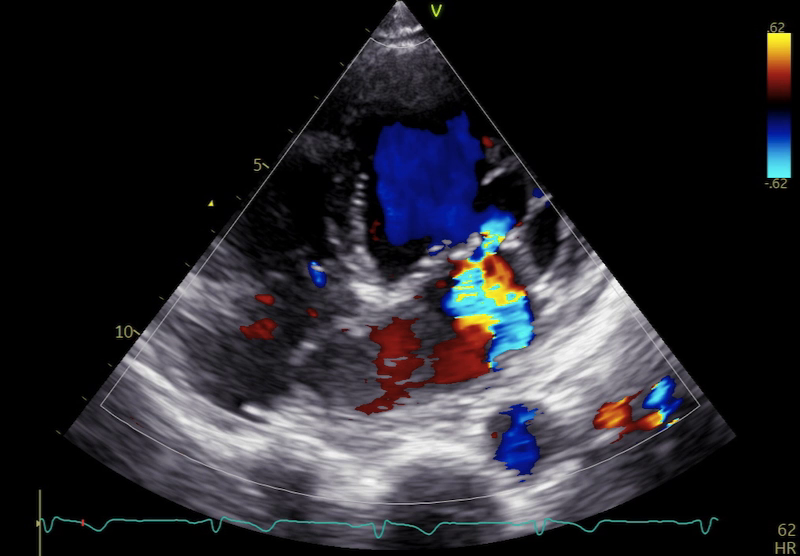MR: (396, 220, 531, 314)
